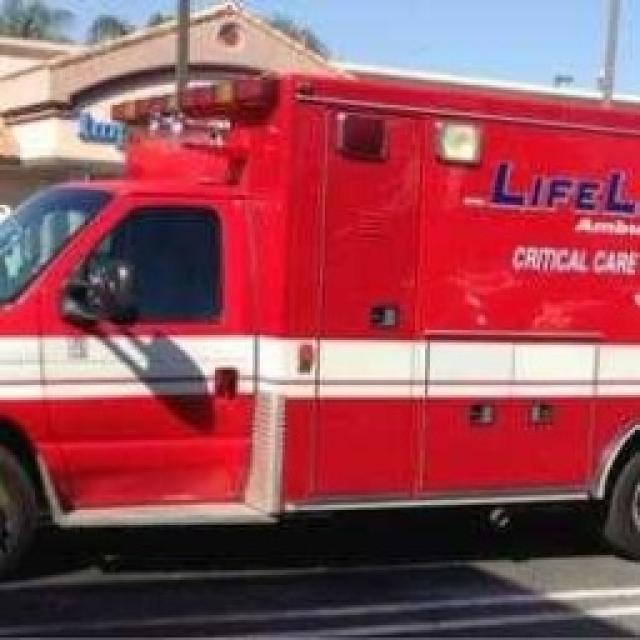emergency-vehicle: (0, 9, 638, 634)
